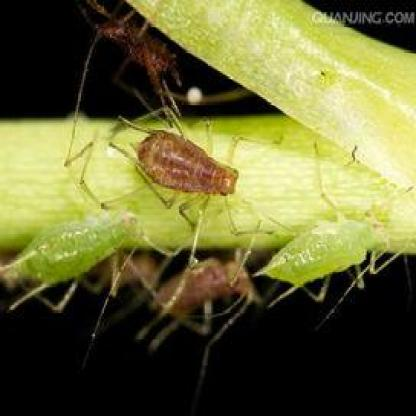aphid: (251, 175, 391, 305), (10, 193, 147, 317), (112, 99, 248, 210), (149, 239, 267, 347), (76, 0, 188, 90), (102, 242, 163, 302)
